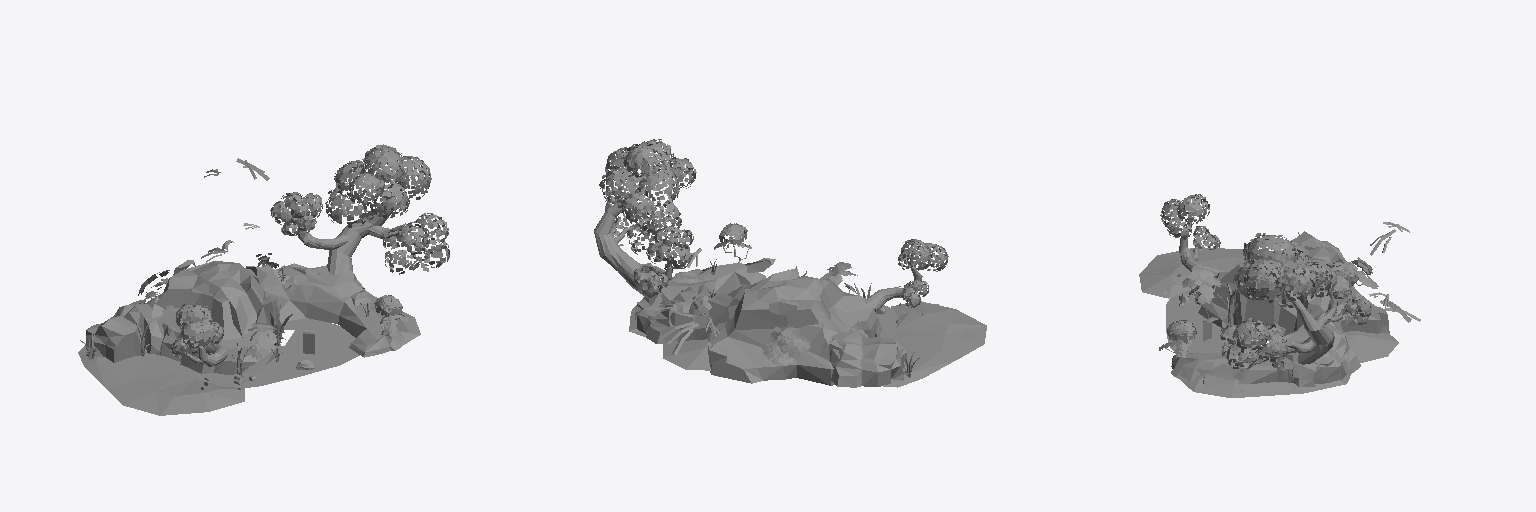
The model's file is plants.obj.
The picture shows the model from 3 angles: view 1: azimuth 30°, elevation 25°; view 2: azimuth 150°, elevation 25°; view 3: azimuth 270°, elevation 25°; orthographic projection.
Parts seen in each view (by area): view 1: Object006, Object007; view 2: Object006, Object007; view 3: Object006, Object007.
Boxes of the visible parts, x1=… form: Object006: x1=78, y1=176, x2=432, y2=415; Object007: x1=129, y1=144, x2=449, y2=403; Object006: x1=594, y1=171, x2=986, y2=387; Object007: x1=599, y1=139, x2=967, y2=366; Object006: x1=1139, y1=212, x2=1398, y2=397; Object007: x1=1153, y1=194, x2=1420, y2=392.
Size of the model in its own units: 15.03 by 6.66 by 10.49.